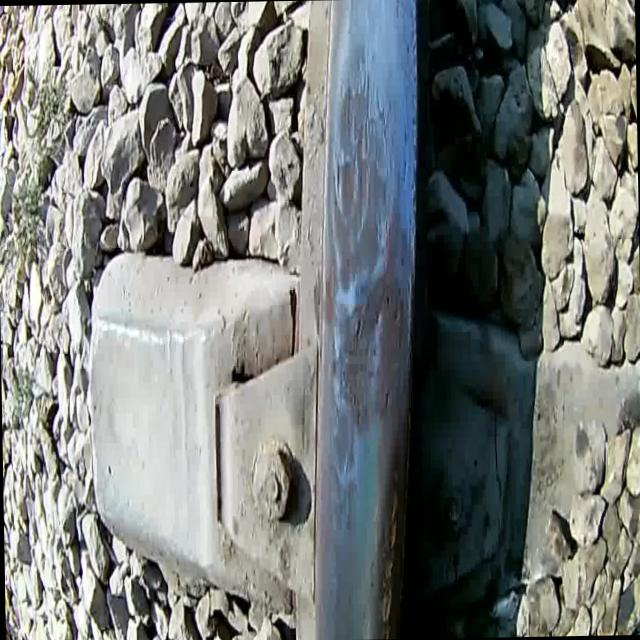Spallings: (372, 461, 402, 639)
Squats: (316, 63, 421, 541), (358, 413, 421, 640)
